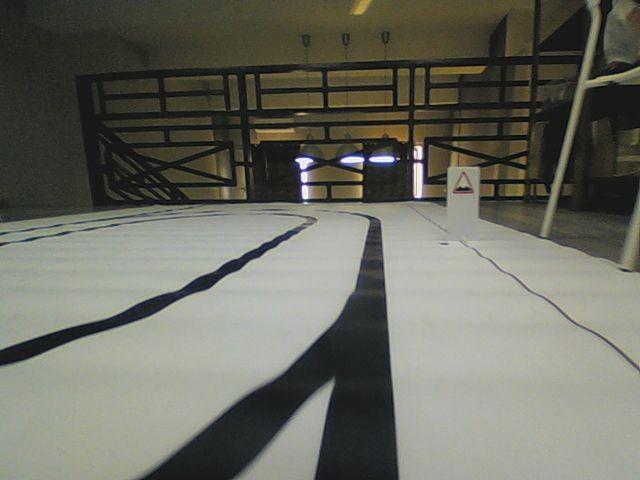Nerov: (452, 170, 474, 195)
